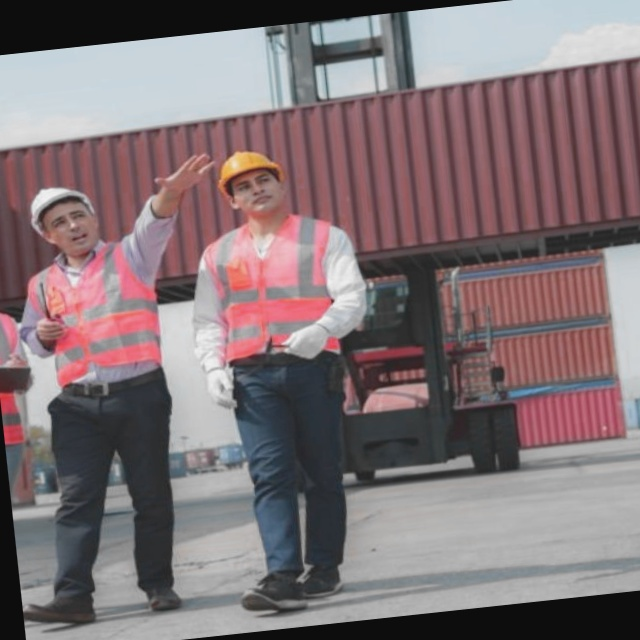Con_Casco: (26, 180, 99, 254), (215, 147, 287, 219)
Con_Chaleco: (189, 205, 361, 372), (21, 245, 162, 394)
